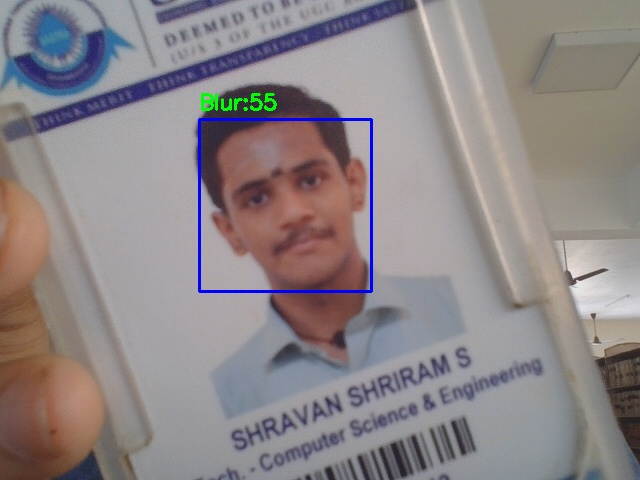fake: (199, 119, 371, 291)
